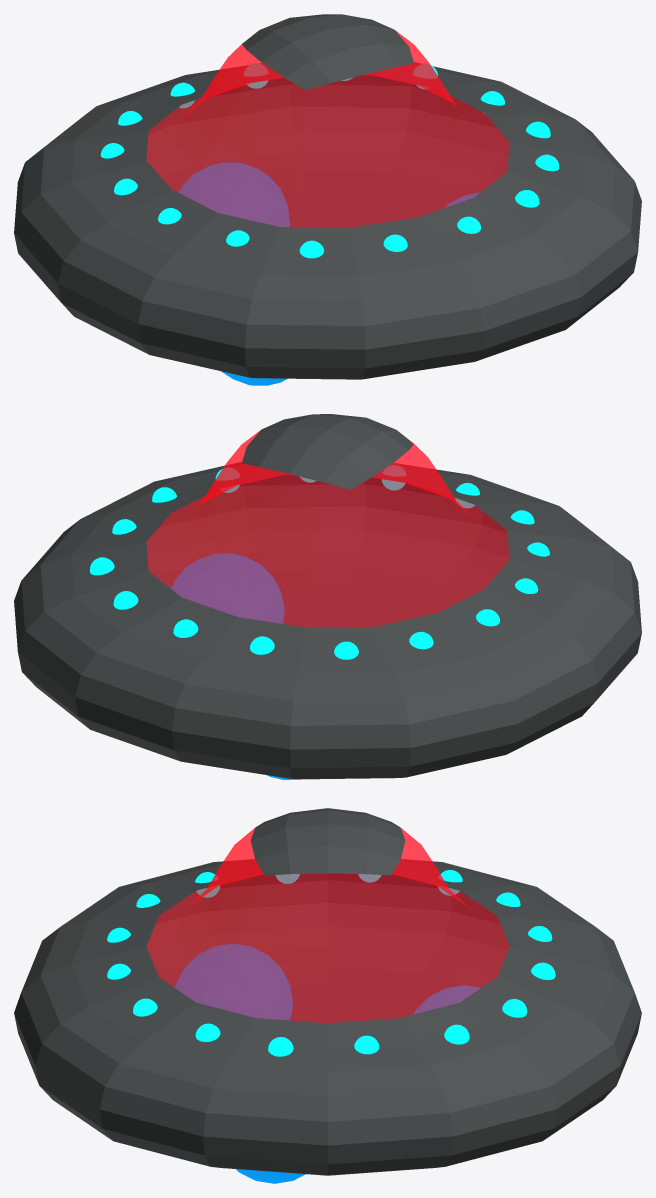
The model's file is robot2.glb.
3 views of the same model, one above another, from view 1: azimuth 30°, elevation 25°; view 2: azimuth 150°, elevation 25°; view 3: azimuth 270°, elevation 25° (orthographic).
Visible parts, largest first — view 1: 立方体, 棱角球, 棱角球.003; view 2: 立方体, 棱角球, 棱角球.003; view 3: 立方体, 棱角球, 棱角球.003.
Boxes of the visible parts, box(x1,y1,x2,y2) form: 立方体: box(14, 14, 641, 379); 棱角球: box(178, 162, 479, 385); 棱角球.003: box(100, 63, 559, 258); 立方体: box(14, 414, 641, 779); 棱角球: box(171, 553, 300, 779); 棱角球.003: box(89, 465, 549, 659); 立方体: box(14, 808, 641, 1175); 棱角球: box(175, 943, 480, 1183); 棱角球.003: box(107, 870, 555, 1056).
Bounding box in the file's own units: 1.79 × 0.9133 × 1.79.
